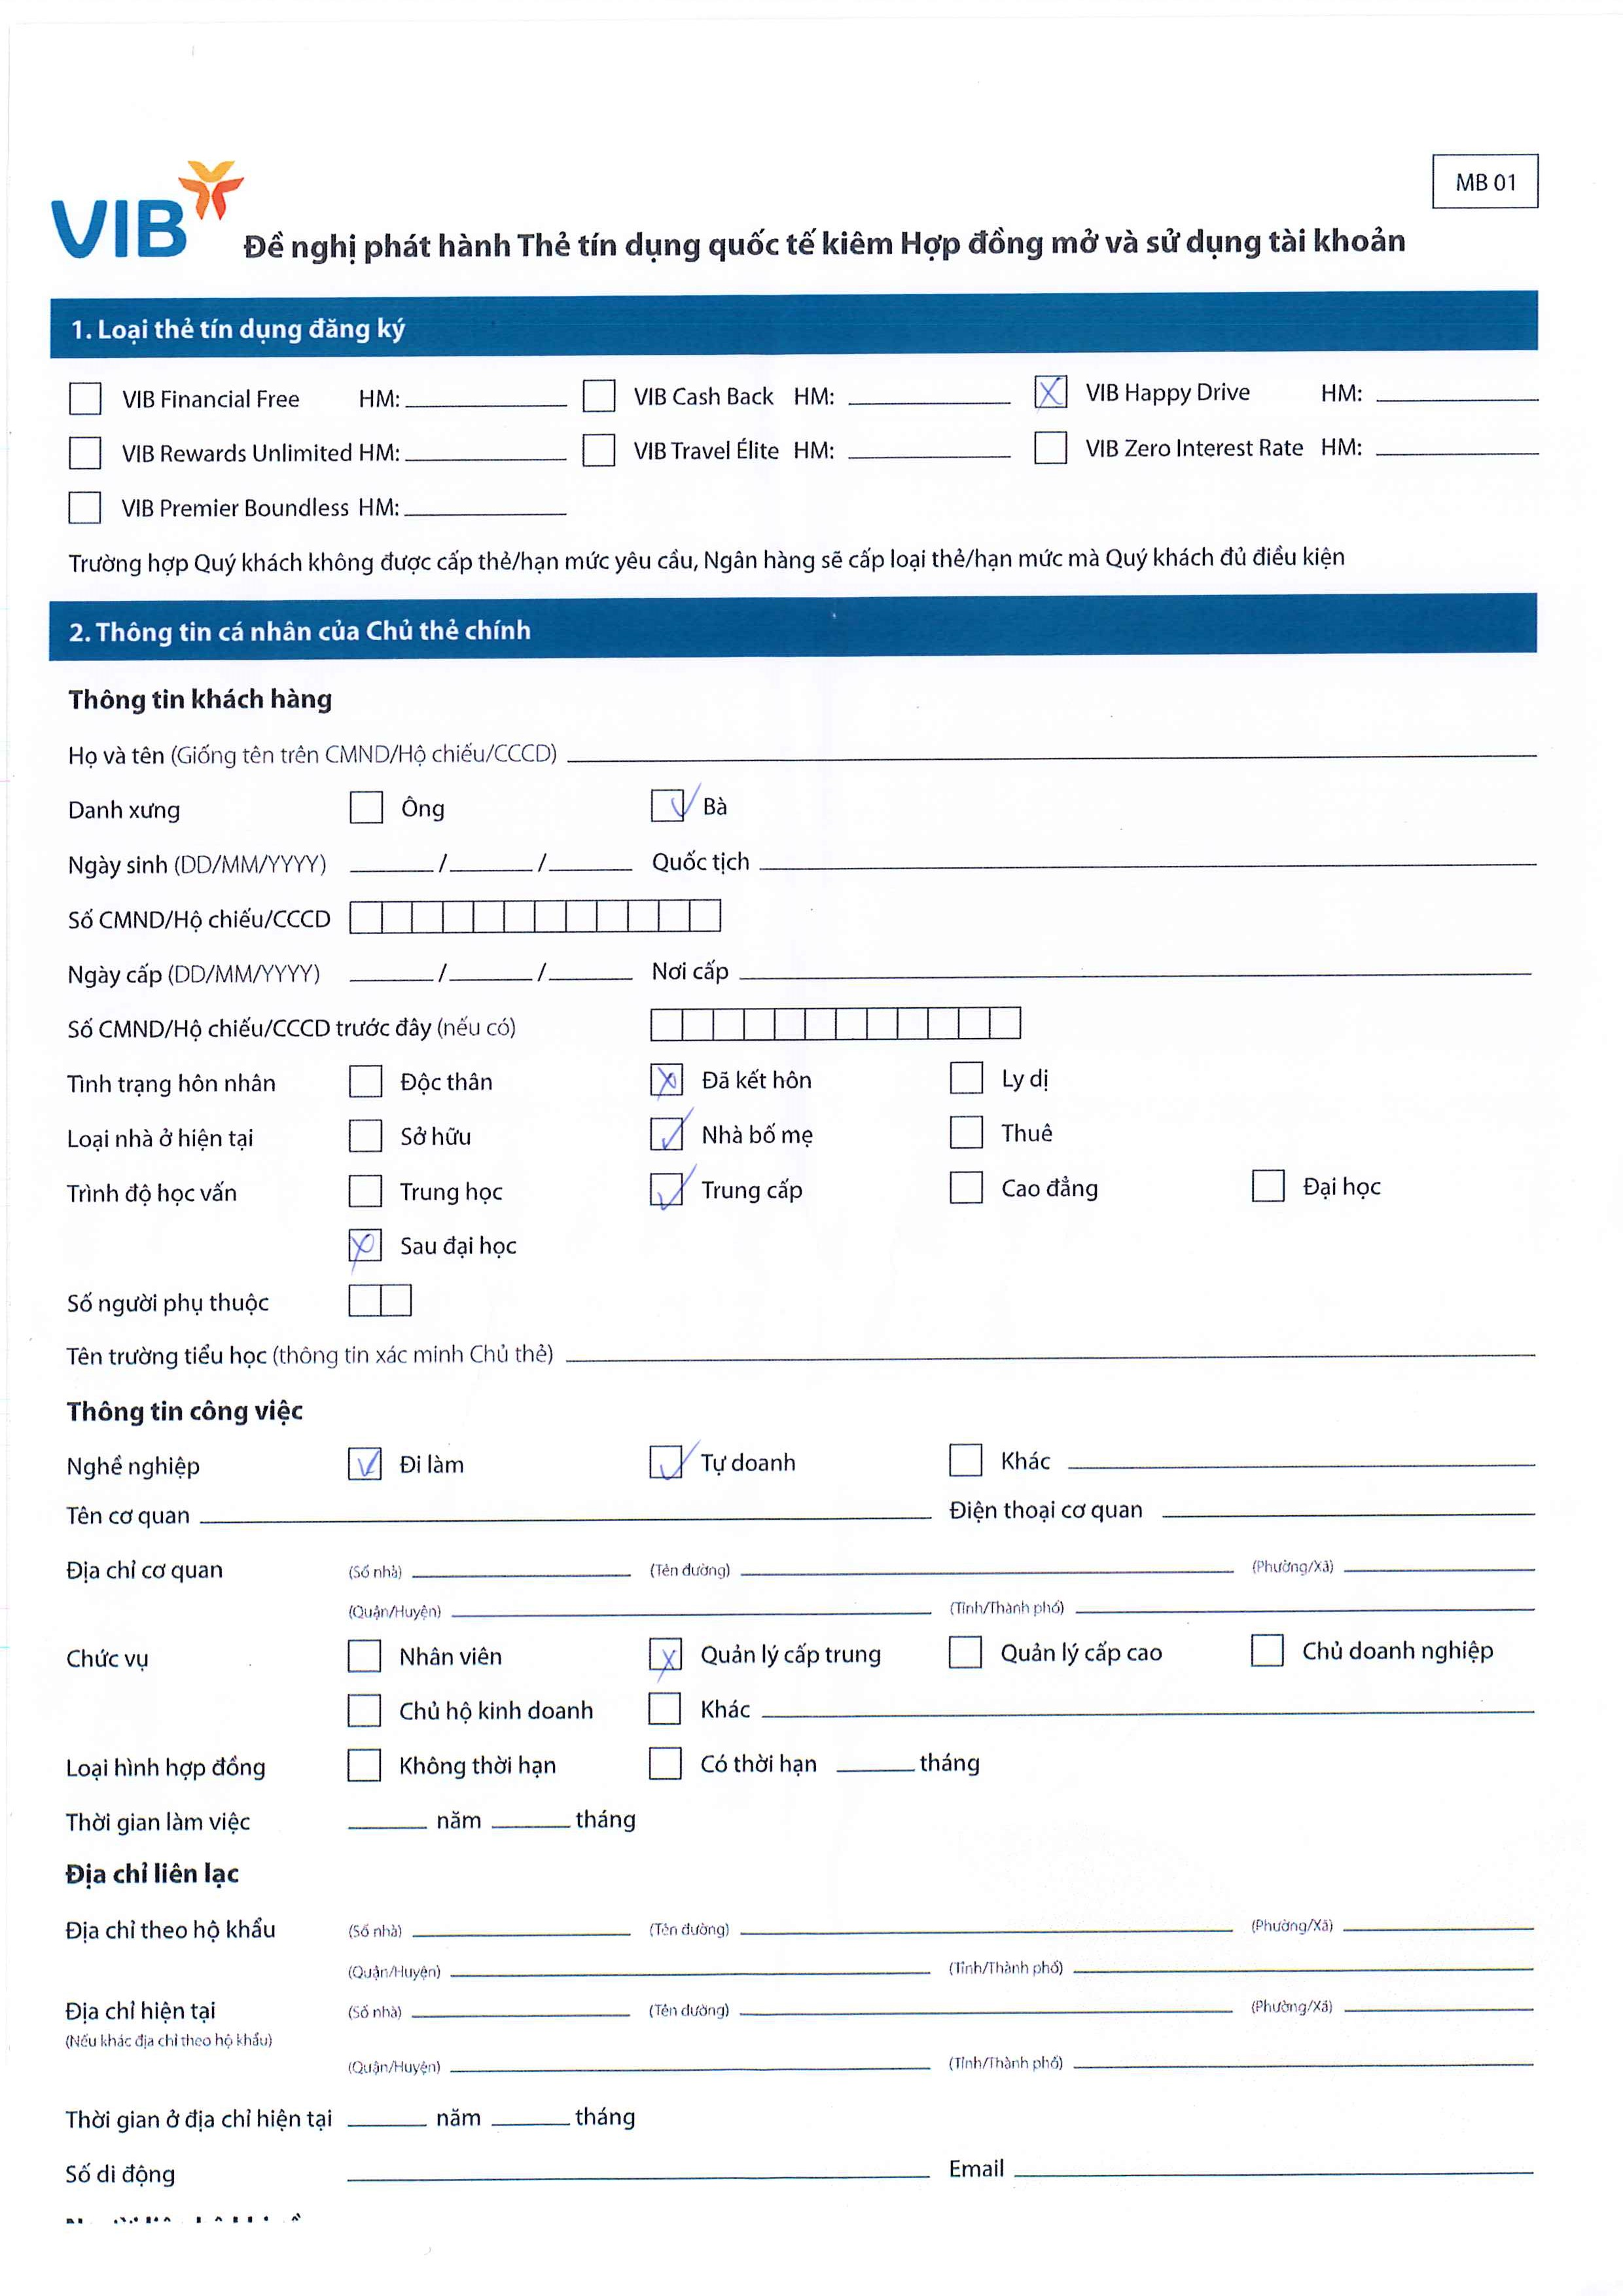box: (341, 1058, 388, 1105), (341, 1743, 388, 1790), (1245, 1163, 1291, 1210), (943, 1630, 989, 1678), (645, 783, 689, 831), (341, 1114, 388, 1158), (646, 1166, 690, 1214), (945, 1163, 989, 1210), (646, 1435, 690, 1483), (343, 1688, 386, 1736), (645, 1112, 689, 1158), (643, 1741, 689, 1785), (343, 1170, 390, 1212), (341, 1444, 388, 1486), (344, 785, 388, 829), (641, 1686, 685, 1730), (945, 1056, 987, 1101), (341, 1635, 386, 1678), (63, 378, 107, 420), (63, 432, 107, 474), (63, 487, 107, 529), (344, 1224, 388, 1267), (646, 1056, 689, 1100), (943, 1110, 985, 1154), (645, 1634, 687, 1678), (1245, 1630, 1289, 1672), (1031, 425, 1071, 471), (578, 429, 620, 471), (1031, 369, 1073, 411), (580, 374, 620, 416), (945, 1439, 985, 1481)
